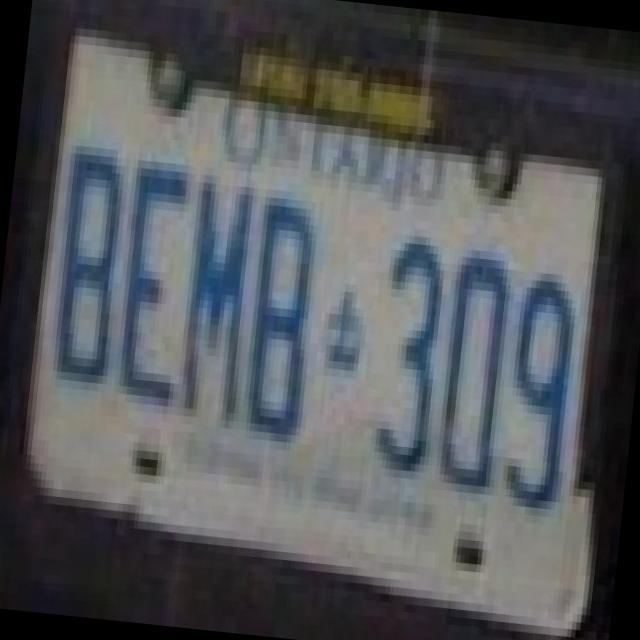LicensePlate: (0, 13, 640, 618)
